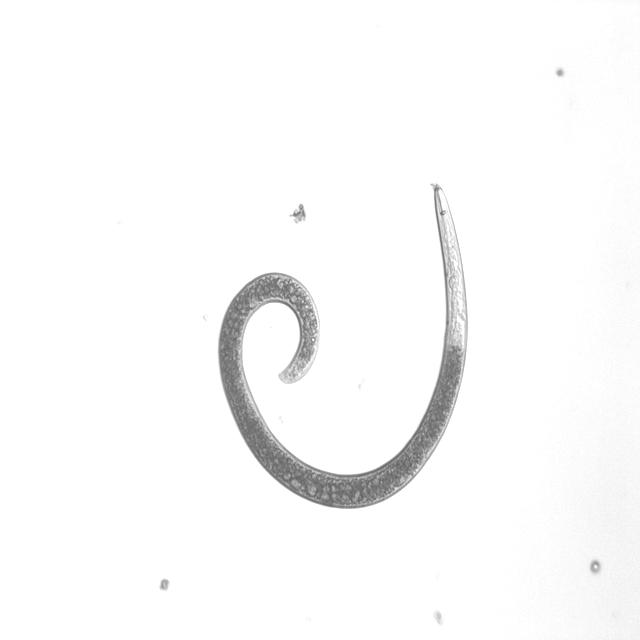Helicotylenchus: (204, 177, 471, 514)
